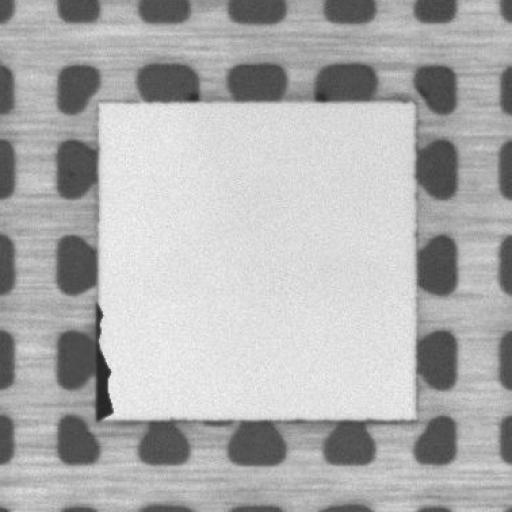DIE_BROKEN: (90, 300, 115, 426)
